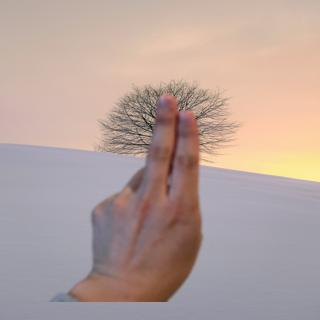DHAVE: (81, 90, 210, 291)
